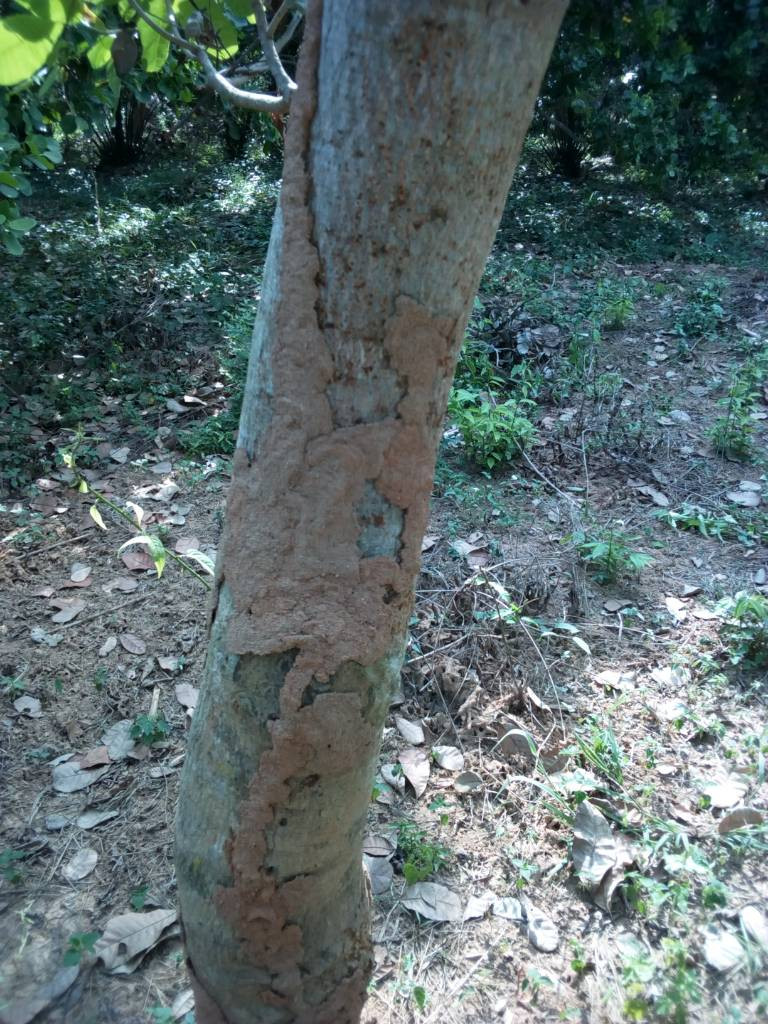Termites: (238, 230, 432, 1016)
